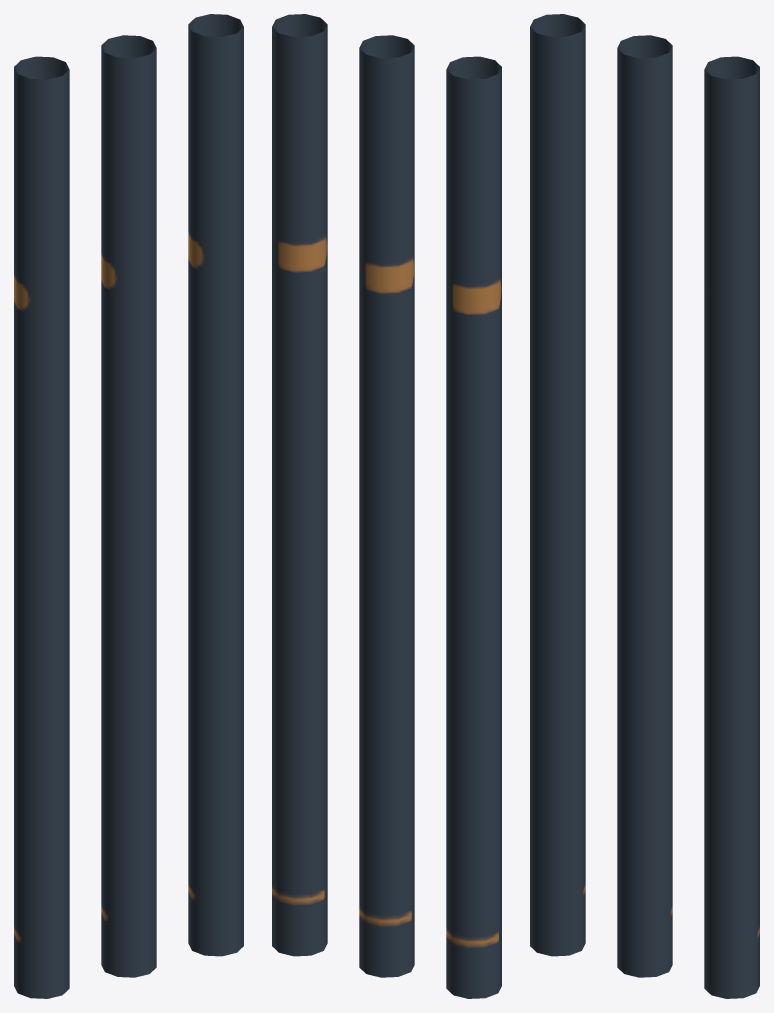
File: Wall_Ornament__4.fbx
The picture shows the model from 3 angles, left to right: view 1: azimuth 30°, elevation 25°; view 2: azimuth 150°, elevation 25°; view 3: azimuth 330°, elevation 25°; orthographic projection.
Visible parts, largest first — view 1: Wall_Ornament; view 2: Wall_Ornament; view 3: Wall_Ornament.
Part boxes in pixels (bbox=[...]): Wall_Ornament: bbox=[14, 14, 243, 998]; Wall_Ornament: bbox=[272, 14, 501, 998]; Wall_Ornament: bbox=[530, 14, 759, 998].
Size of the model in its own units: 0.55 by 2.17 by 0.1135.
Materials: 1 (1 with a texture image).
